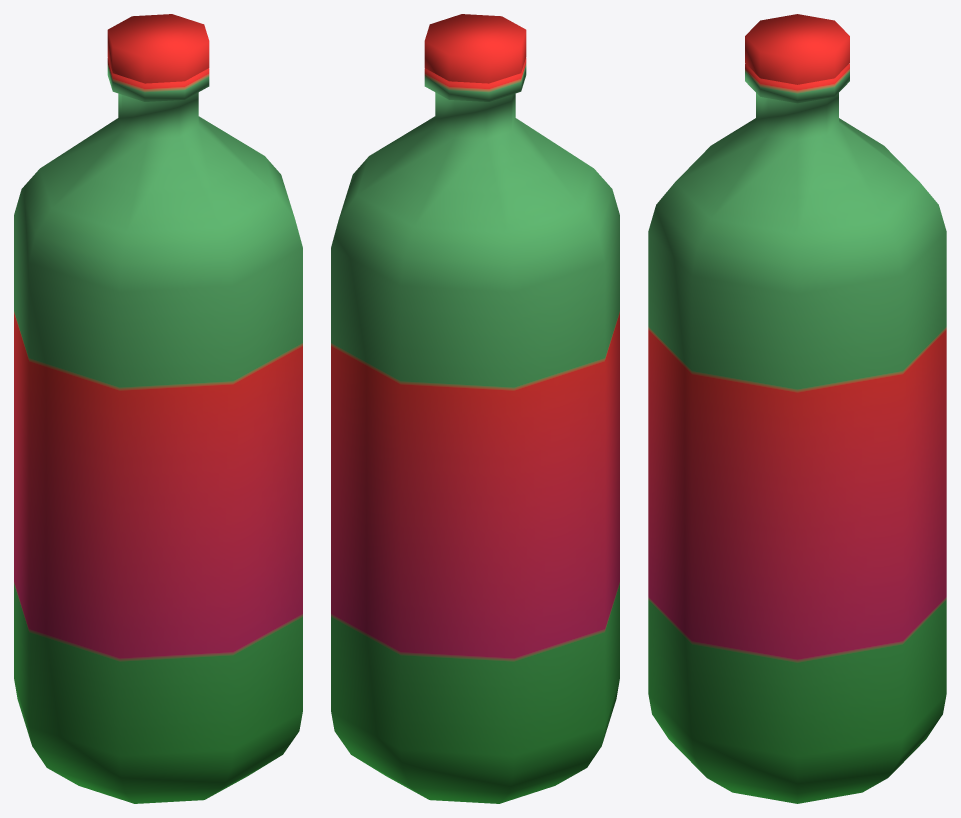
File: Lixo_Plast.fbx
The picture shows the model from 3 angles, left to right: view 1: azimuth 30°, elevation 25°; view 2: azimuth 150°, elevation 25°; view 3: azimuth 270°, elevation 25°; orthographic projection.
Visible parts, largest first — view 1: Lixo_Plast; view 2: Lixo_Plast; view 3: Lixo_Plast.
Boxes of the visible parts, x1,y1,x2,y2 form: Lixo_Plast: (14, 14, 302, 803); Lixo_Plast: (331, 14, 619, 803); Lixo_Plast: (648, 14, 946, 803).
Bounding box in the file's own units: 4.56 × 12.28 × 4.56.
